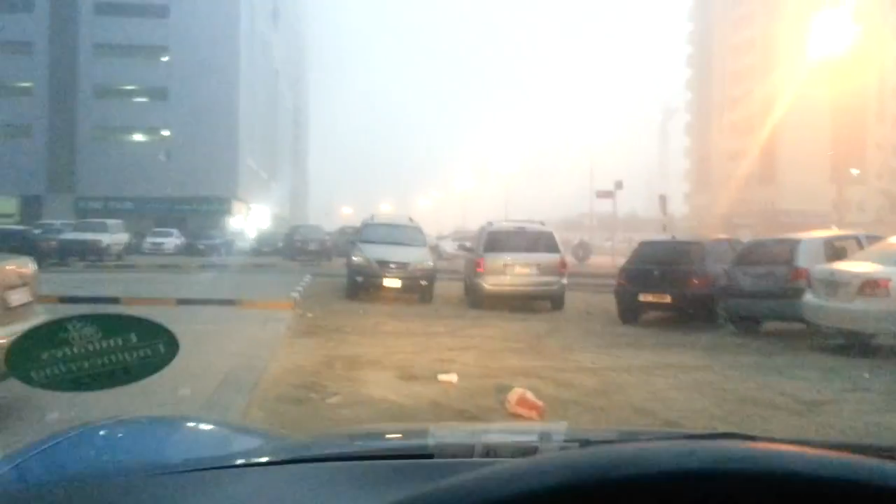car: (718, 230, 896, 334), (612, 233, 760, 326), (798, 234, 896, 345), (461, 220, 570, 311), (346, 212, 439, 303), (56, 216, 133, 262), (1, 224, 57, 270), (436, 226, 502, 264), (280, 222, 334, 264), (29, 216, 82, 255), (188, 226, 236, 258), (140, 224, 187, 255), (331, 222, 371, 258), (245, 230, 286, 259)
